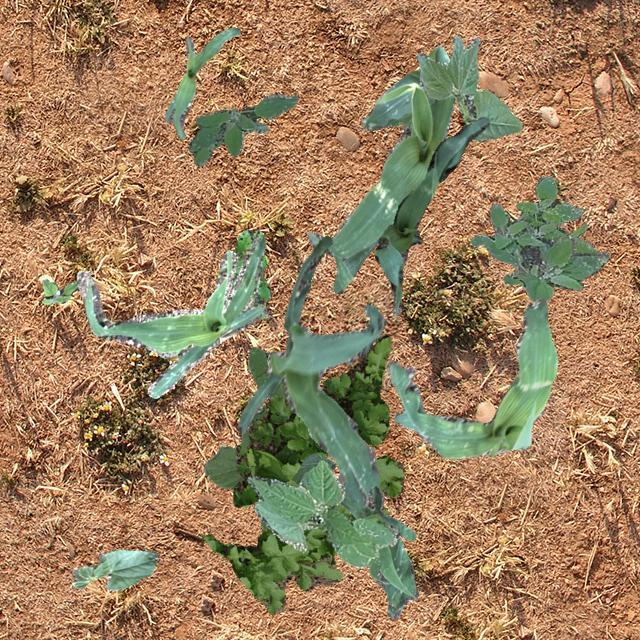crop: (236, 234, 384, 506), (307, 45, 453, 292), (76, 228, 264, 398), (386, 296, 556, 458), (372, 116, 488, 316), (247, 460, 398, 568), (414, 36, 520, 140), (338, 486, 418, 618), (162, 27, 240, 138), (70, 548, 158, 590)
weed: (202, 332, 402, 614), (202, 346, 334, 530), (468, 202, 608, 302), (188, 92, 298, 166), (514, 175, 598, 252), (230, 228, 270, 318), (41, 278, 78, 304)
